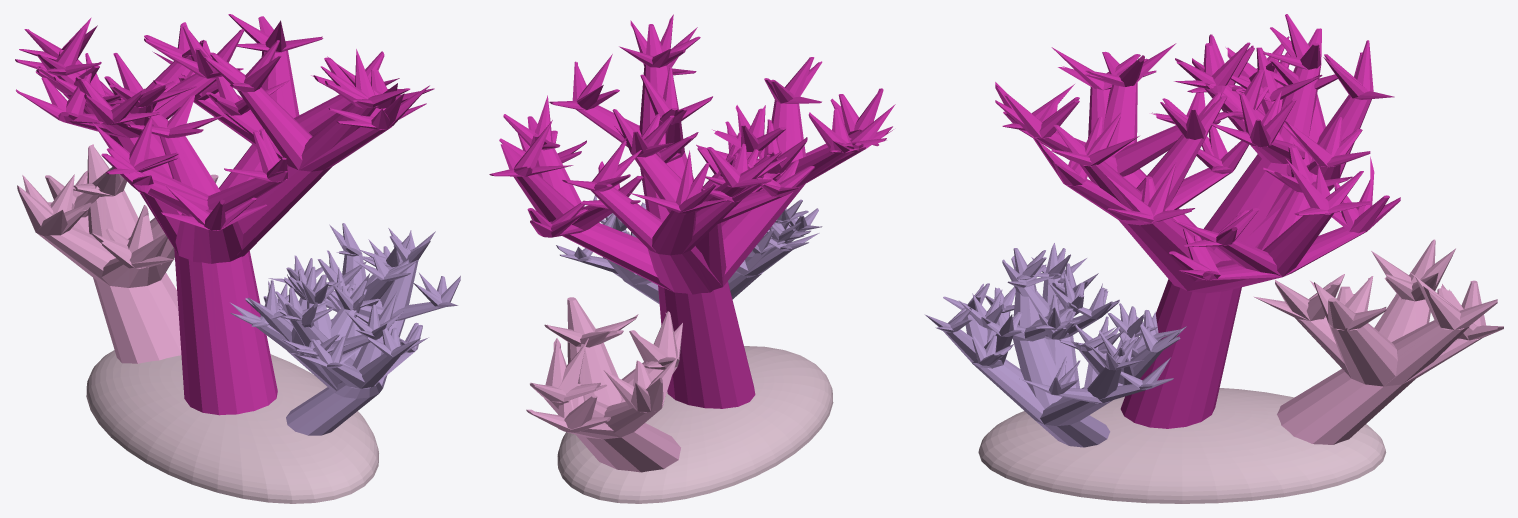
File: coral.glb
3 views of the same model, side by side, from view 1: azimuth 30°, elevation 25°; view 2: azimuth 150°, elevation 25°; view 3: azimuth 270°, elevation 25° (orthographic). The views are drawn at different scales.
Parts seen in each view (by area): view 1: Mesh_Mesh_head_geo.001_lambert2SG.001; view 2: Mesh_Mesh_head_geo.001_lambert2SG.001; view 3: Mesh_Mesh_head_geo.001_lambert2SG.001.
Part boxes in pixels (x1=…): Mesh_Mesh_head_geo.001_lambert2SG.001: x1=15, y1=14, x2=460, y2=503; Mesh_Mesh_head_geo.001_lambert2SG.001: x1=489, y1=14, x2=895, y2=503; Mesh_Mesh_head_geo.001_lambert2SG.001: x1=924, y1=14, x2=1503, y2=503.
Bounding box in the file's own units: 0.0119 × 0.0116 × 0.0166.
